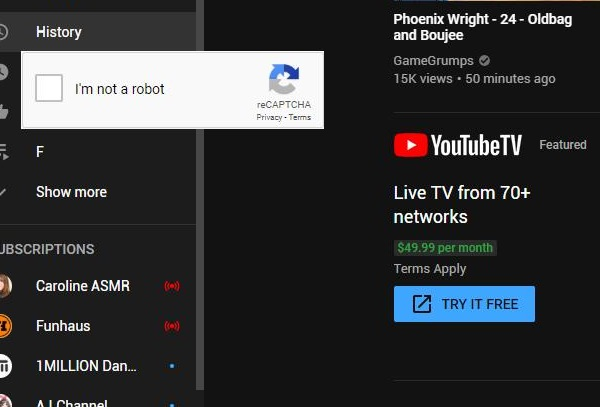captcha: (34, 73, 164, 102)
